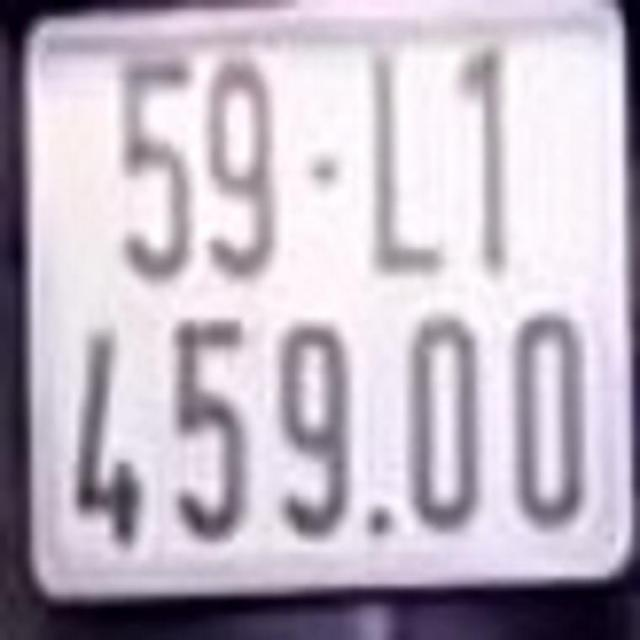0: (512, 308, 596, 535), (405, 307, 486, 538)
1: (451, 33, 522, 281)
4: (69, 326, 142, 558)
5: (172, 310, 255, 544), (116, 54, 199, 284)
9: (203, 54, 279, 276), (276, 312, 344, 549)
L: (356, 48, 446, 277)
